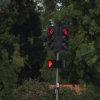Traffic light: (39, 13, 82, 64)
